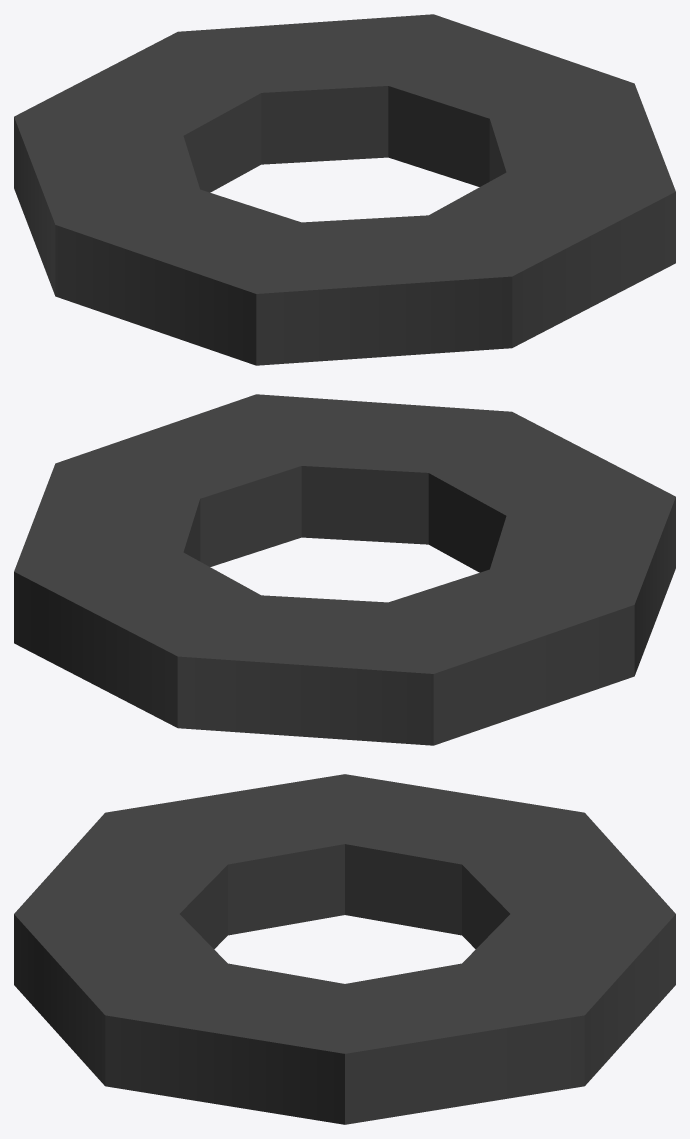
Rendered from Stack1.fbx.
3 renders of one model, top to bottom at view 1: azimuth 30°, elevation 25°; view 2: azimuth 150°, elevation 25°; view 3: azimuth 270°, elevation 25°, orthographic.
Visible parts, largest first — view 1: Plane.004, Plane.000, Plane.003, Plane.002; view 2: Plane.002, Plane.003, Plane.000, Plane.004; view 3: Plane.003, Plane.000, Plane.004, Plane.002.
Part boxes in pixels (x1,y1,x2,y2): Plane.004: (55, 189, 512, 365); Plane.000: (178, 14, 634, 186); Plane.003: (429, 83, 675, 347); Plane.002: (14, 32, 261, 295); Plane.002: (177, 569, 634, 745); Plane.003: (55, 394, 511, 566); Plane.000: (14, 463, 260, 727); Plane.004: (428, 412, 675, 675); Plane.003: (14, 914, 344, 1124); Plane.000: (345, 914, 675, 1124); Plane.004: (14, 774, 344, 949); Plane.002: (345, 774, 675, 949).
Size of the model in its own units: 212 by 25.02 by 212.
